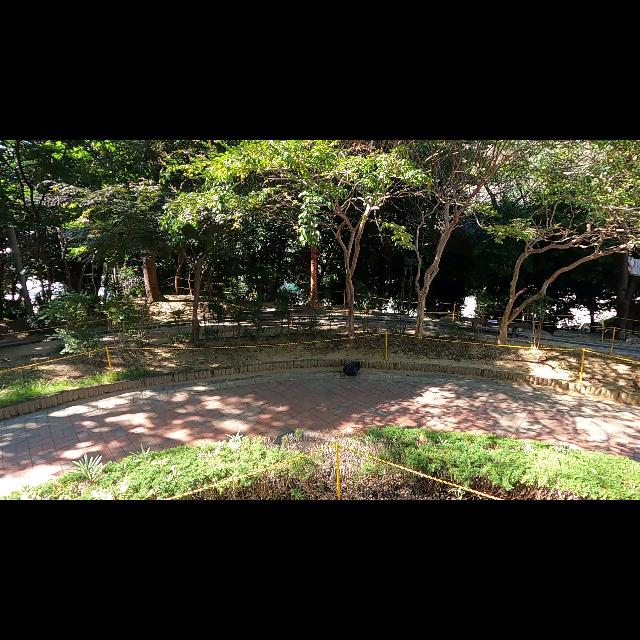trash: (342, 359, 362, 379)
